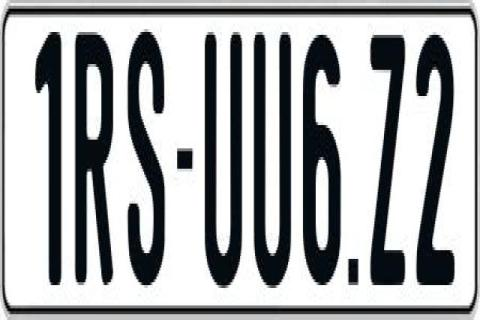0: (414, 35, 457, 299), (300, 35, 341, 303), (35, 32, 68, 285)
R: (73, 24, 118, 288)
S: (128, 29, 168, 297)
U: (253, 32, 293, 306), (202, 29, 242, 291)
Z: (368, 29, 408, 294)
